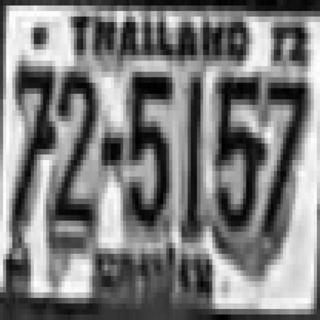N01: (182, 74, 200, 234)
N02: (48, 66, 94, 232)
N05: (212, 72, 262, 226), (126, 69, 169, 224)
N07: (260, 77, 306, 248), (6, 58, 52, 229)
P28: (86, 244, 216, 309)
